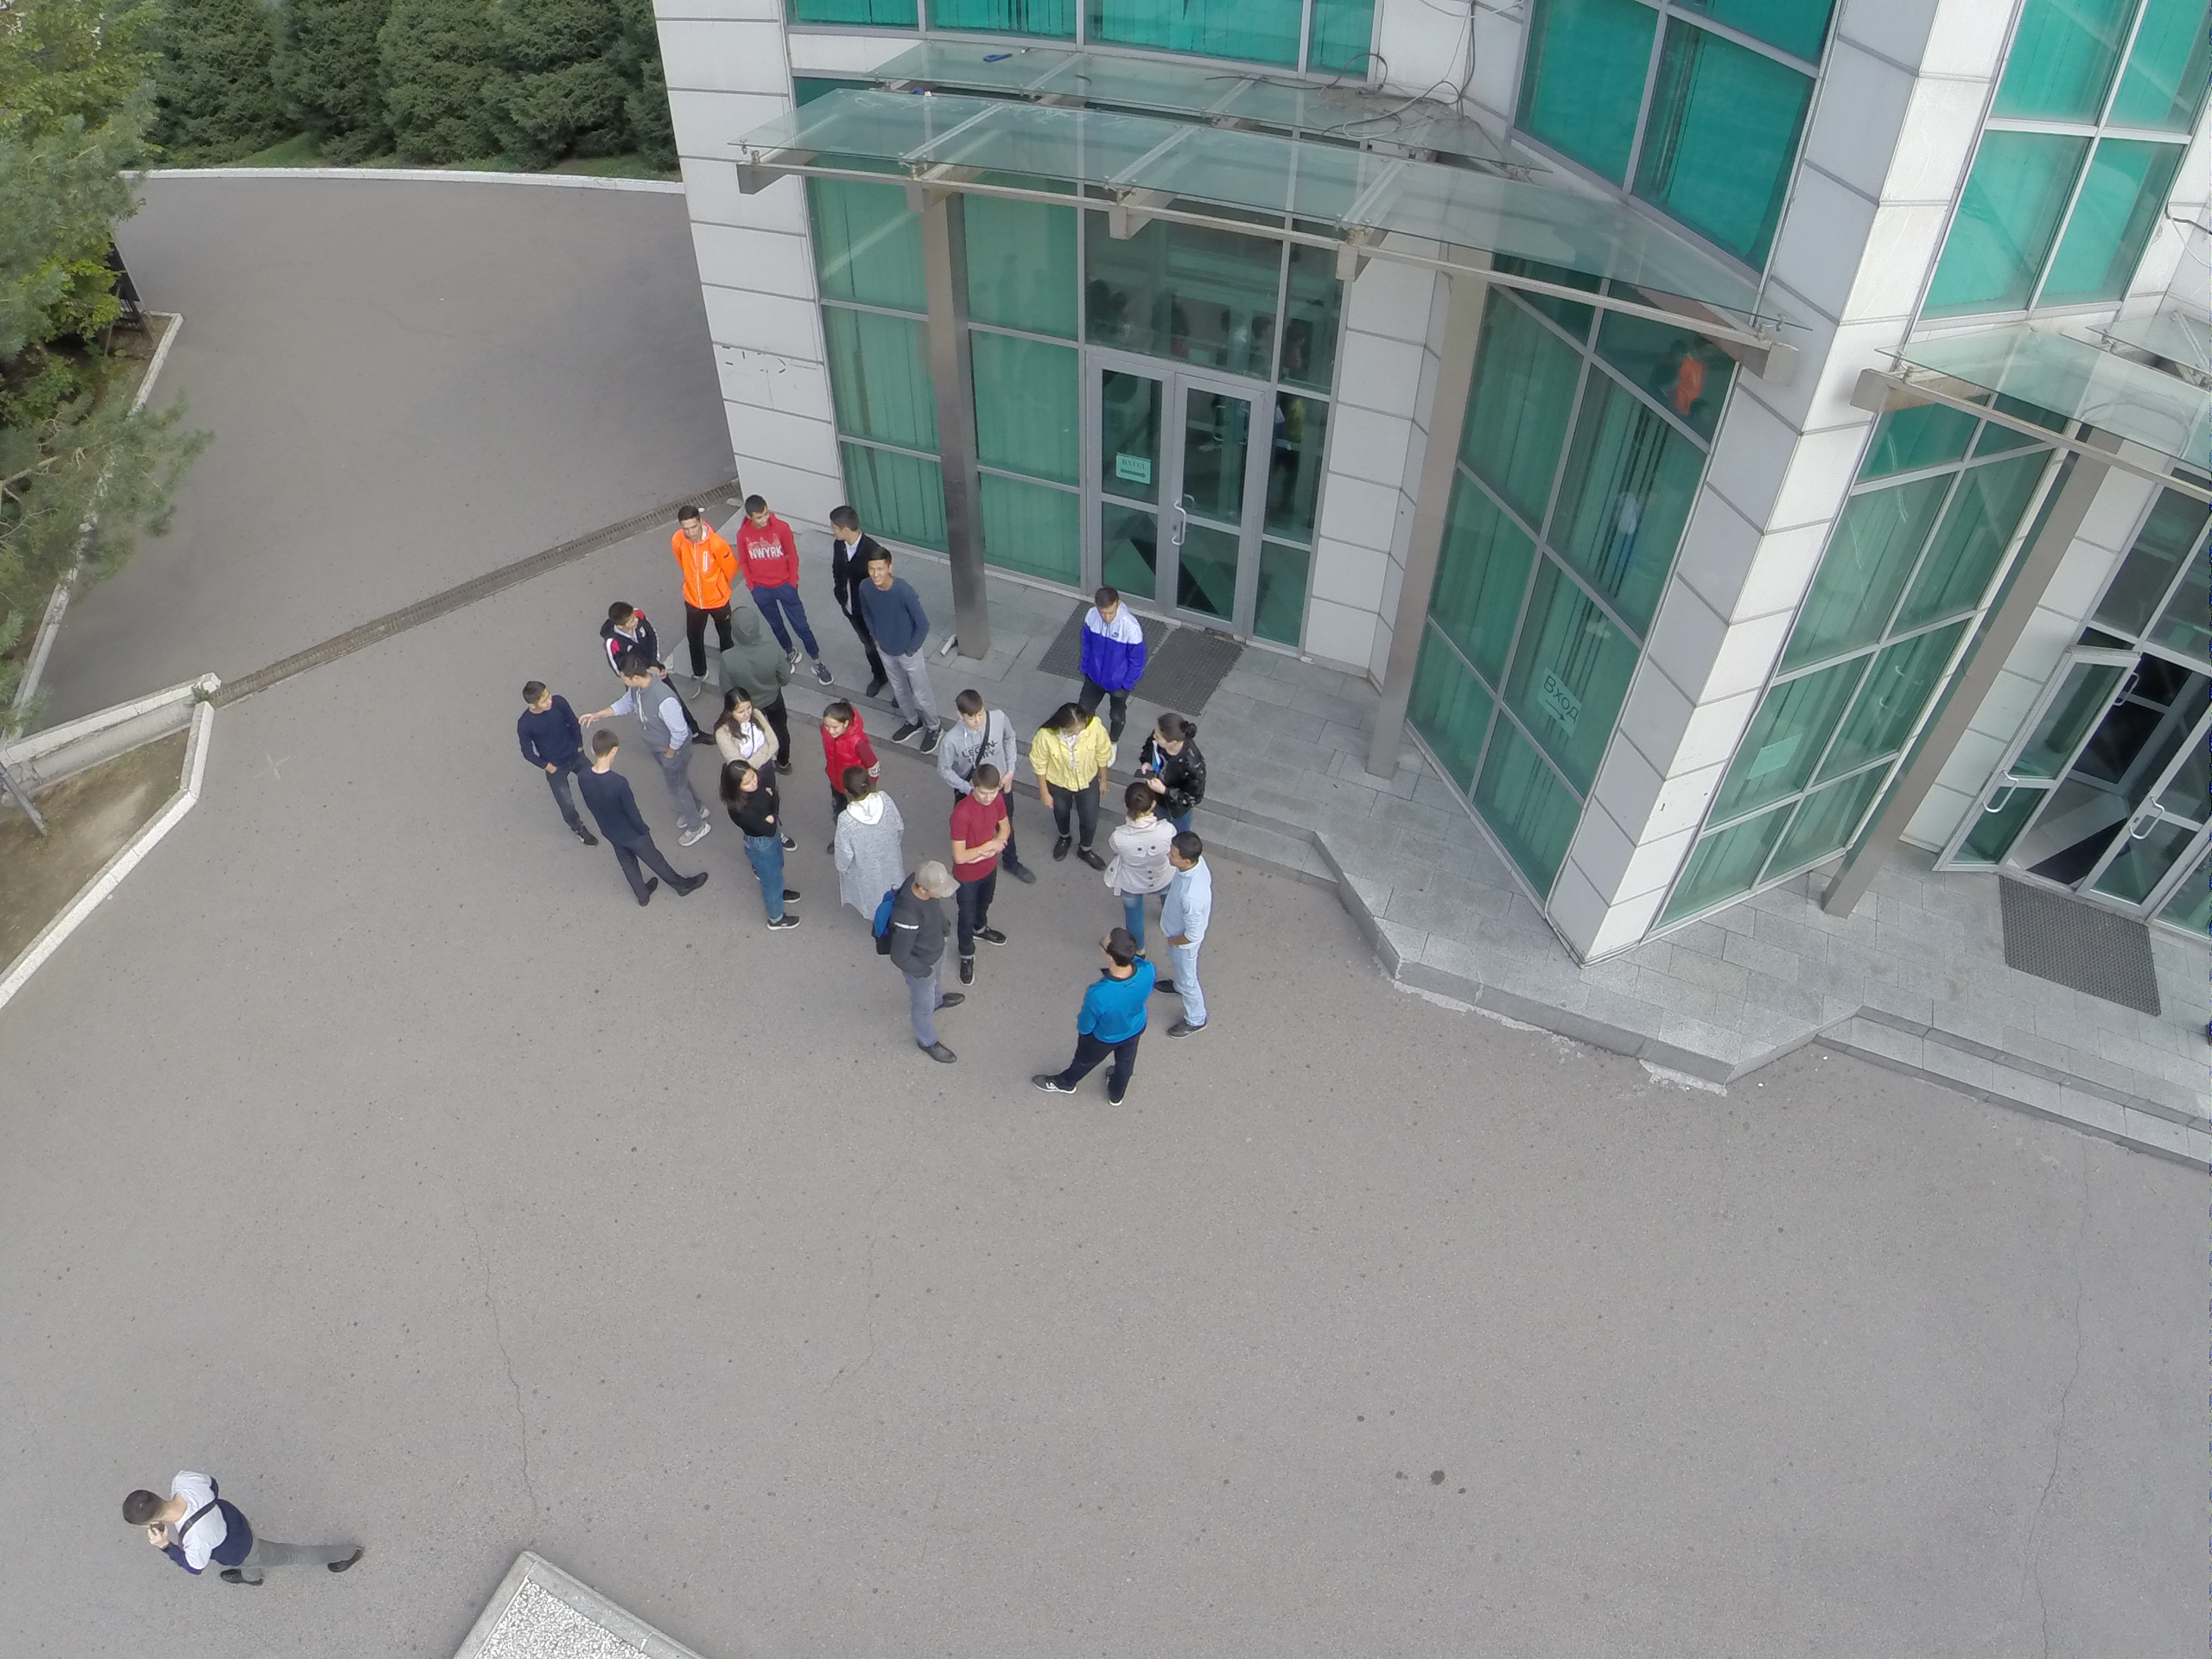person: (110, 1465, 366, 1602), (593, 657, 720, 849), (583, 732, 706, 906), (1032, 925, 1147, 1103), (869, 865, 967, 1074), (850, 551, 943, 758), (740, 496, 835, 677), (1142, 829, 1221, 1039), (718, 760, 807, 933), (1029, 704, 1116, 877), (516, 678, 602, 847), (956, 779, 1014, 982), (672, 507, 734, 690), (1107, 784, 1180, 935), (829, 767, 907, 897), (1066, 584, 1138, 715), (1141, 712, 1210, 815), (937, 681, 1010, 779), (708, 692, 783, 767), (825, 504, 881, 594), (597, 600, 656, 671)
